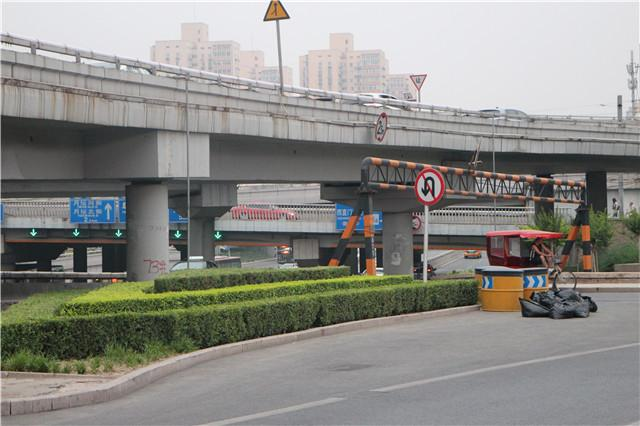not_u_turn_left: (412, 169, 444, 209)
